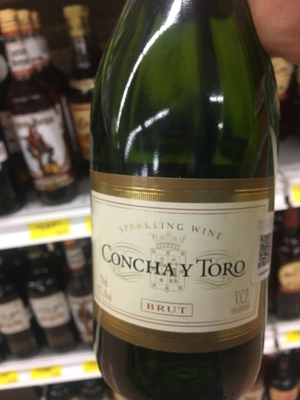brut: (85, 2, 276, 400)
